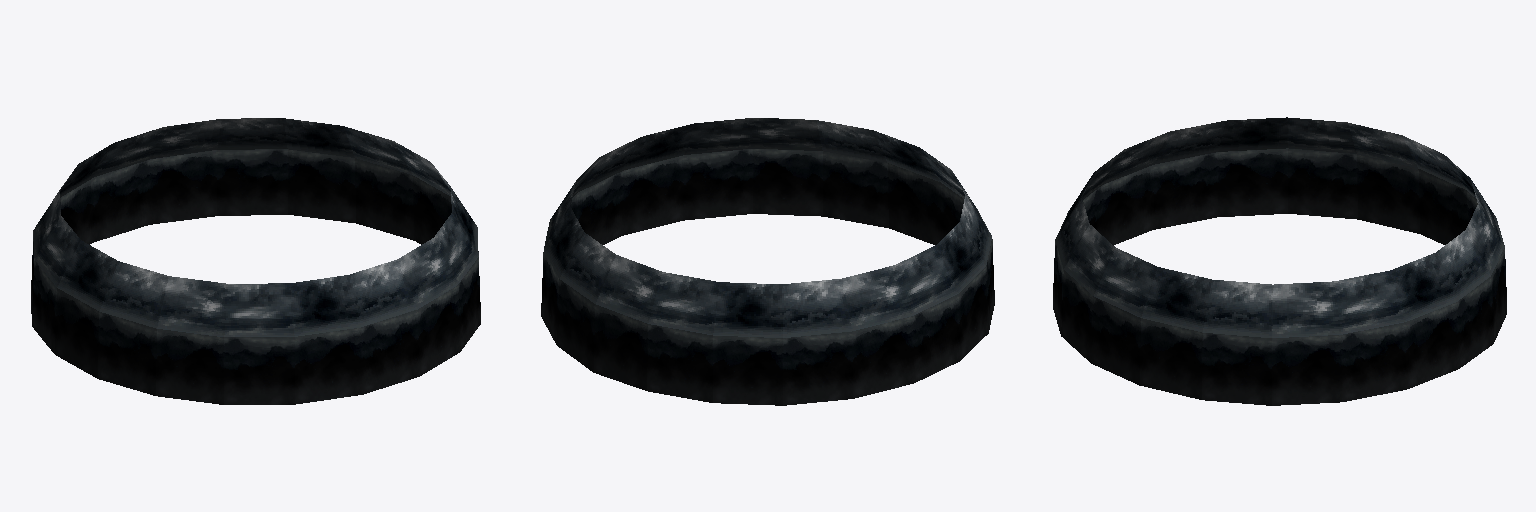
3 renders of one model, left to right at view 1: azimuth 30°, elevation 25°; view 2: azimuth 150°, elevation 25°; view 3: azimuth 270°, elevation 25°, orthographic.
Parts seen in each view (by area): view 1: mesh00; view 2: mesh00; view 3: mesh00.
Part boxes in pixels (left/top/right/bottom): mesh00: left=31, top=118, right=480, bottom=404; mesh00: left=541, top=118, right=994, bottom=405; mesh00: left=1053, top=117, right=1506, bottom=405.
Size of the model in its own units: 53072 by 14164 by 53073.
3 materials, 3 textured.